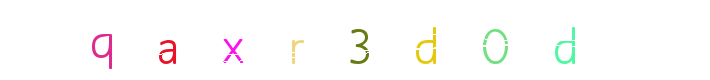0: (388, 0, 468, 80)
3: (315, 0, 395, 80)
A: (129, 0, 209, 80)
D: (321, 0, 401, 80), (492, 0, 572, 80)
Q: (71, 0, 151, 80)
R: (278, 0, 358, 80)
X: (193, 0, 273, 80)
